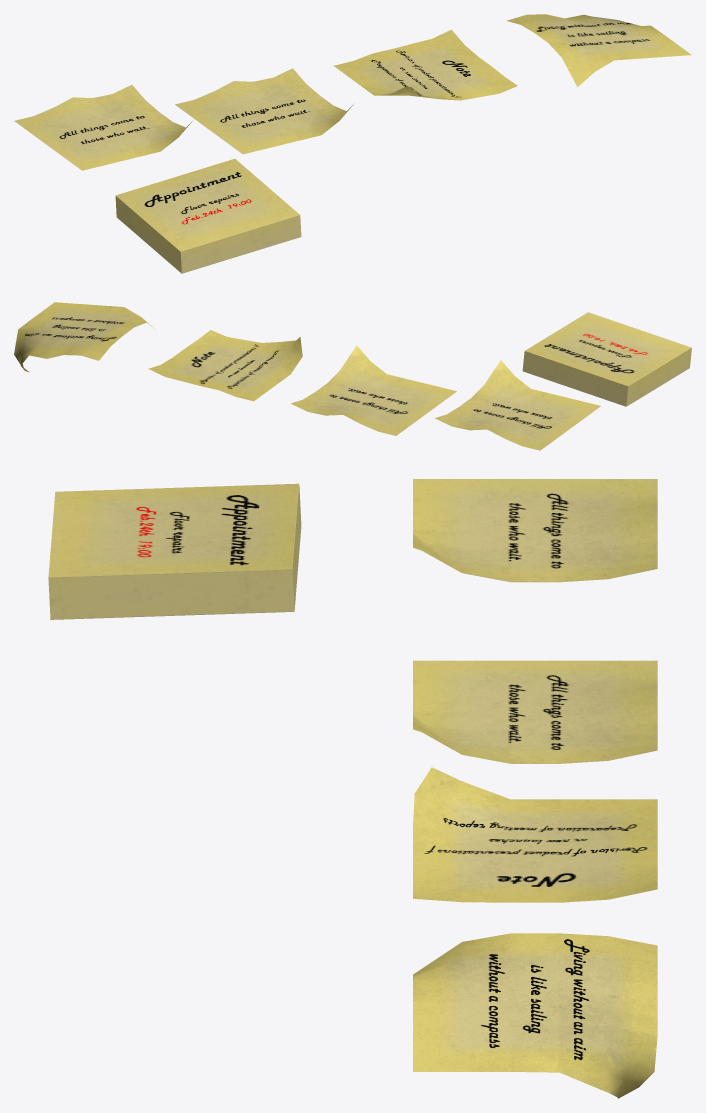
Rendered from memo5.fbx.
The picture shows the model from 3 angles, top to bottom: view 1: azimuth 30°, elevation 25°; view 2: azimuth 150°, elevation 25°; view 3: azimuth 270°, elevation 25°; orthographic projection. The views are drawn at different scales.
Parts seen in each view (by area): view 1: SM_post_it_notes.001, SM_post_it_notes, SM_post_it_notes.004, SM_post_it_notes.002, SM_post_it_notes.003; view 2: SM_post_it_notes.001, SM_post_it_notes.004, SM_post_it_notes, SM_post_it_notes.002, SM_post_it_notes.003; view 3: SM_post_it_notes.003, SM_post_it_notes.001, SM_post_it_notes.002, SM_post_it_notes, SM_post_it_notes.004.
Boxes of the visible parts, left/top/right/bottom form: SM_post_it_notes.001: left=115, top=158, right=301, bottom=273; SM_post_it_notes: left=175, top=68, right=354, bottom=154; SM_post_it_notes.004: left=14, top=85, right=193, bottom=170; SM_post_it_notes.002: left=333, top=29, right=517, bottom=100; SM_post_it_notes.003: left=506, top=14, right=691, bottom=87; SM_post_it_notes.001: left=522, top=312, right=691, bottom=406; SM_post_it_notes.004: left=435, top=360, right=600, bottom=450; SM_post_it_notes: left=291, top=345, right=456, bottom=435; SM_post_it_notes.002: left=148, top=330, right=302, bottom=401; SM_post_it_notes.003: left=14, top=302, right=154, bottom=372; SM_post_it_notes.003: left=413, top=933, right=657, bottom=1098; SM_post_it_notes.001: left=48, top=483, right=301, bottom=619; SM_post_it_notes.002: left=413, top=767, right=657, bottom=902; SM_post_it_notes: left=413, top=660, right=657, bottom=763; SM_post_it_notes.004: left=413, top=479, right=657, bottom=582.
Size of the model in its own units: 39.33 by 5.34 by 18.94.
1 material, 1 textured.
